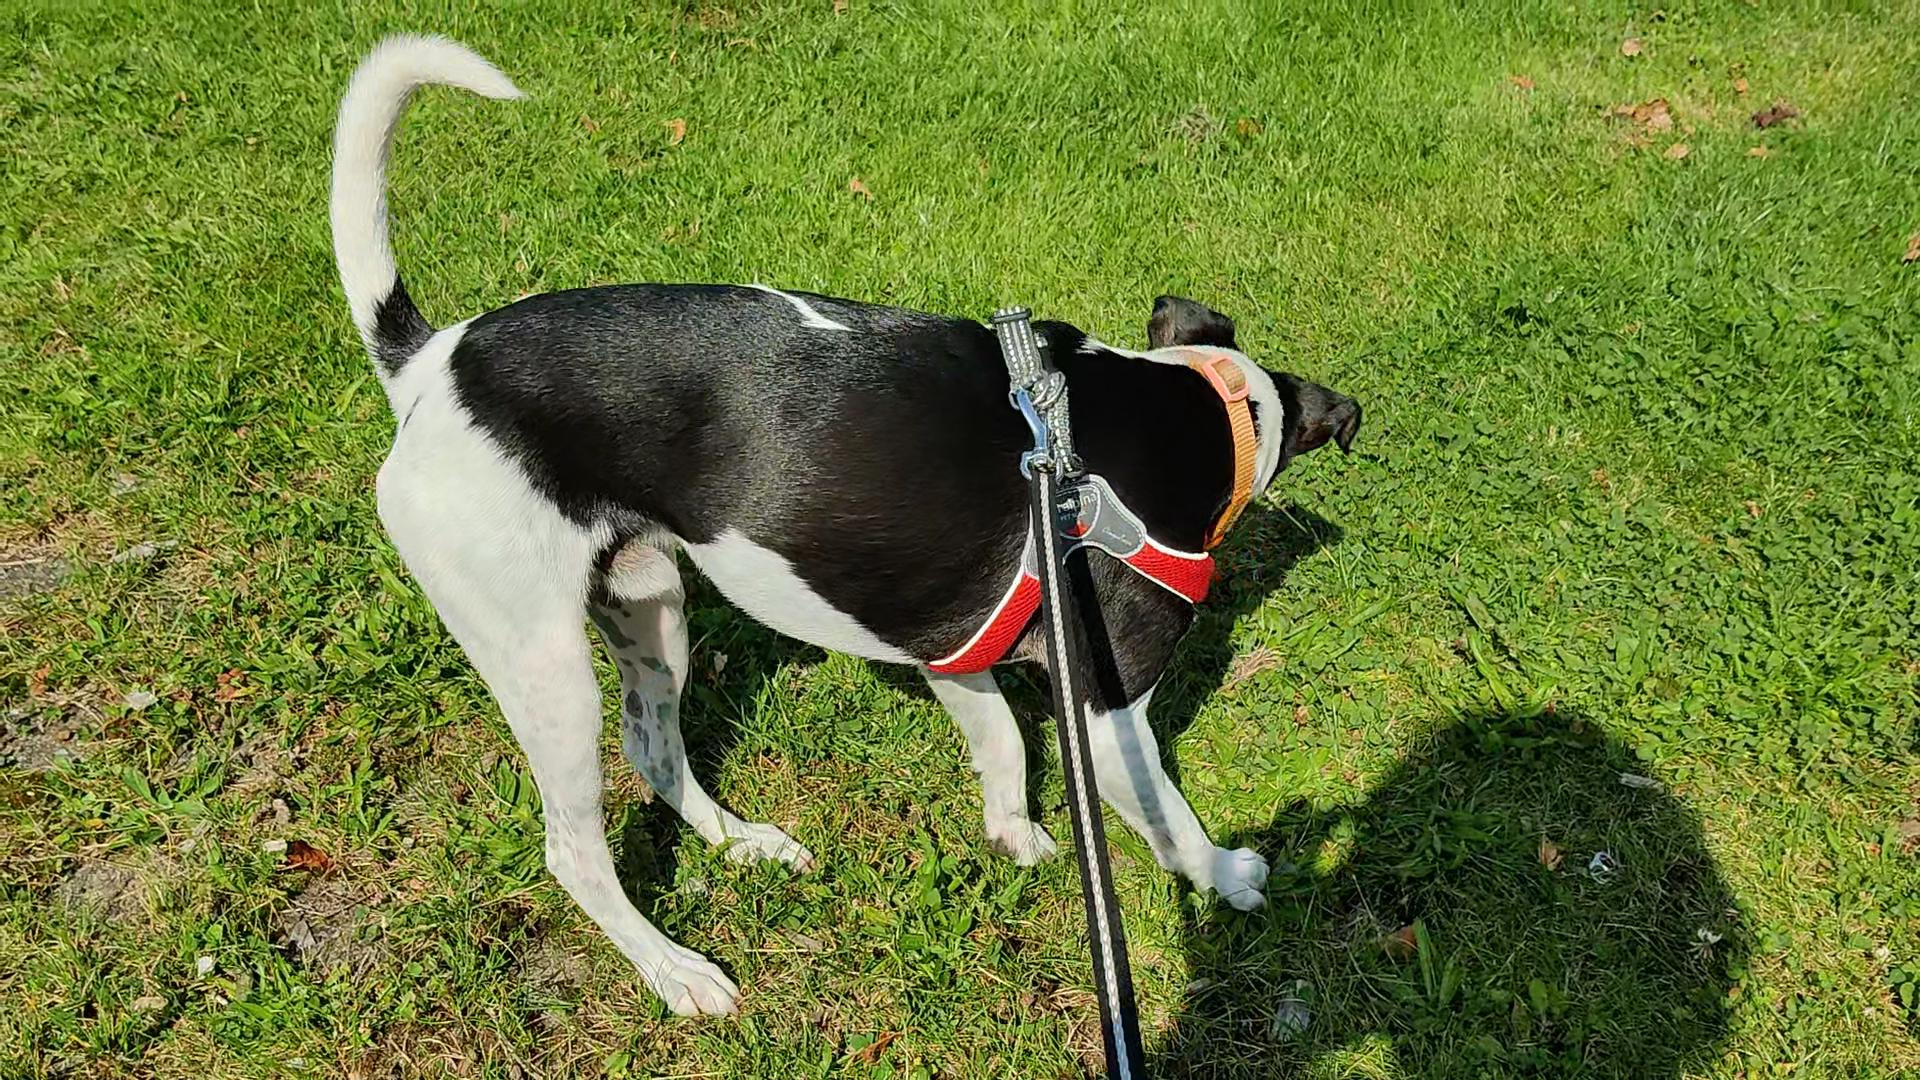Dog: (298, 21, 1374, 1021)
